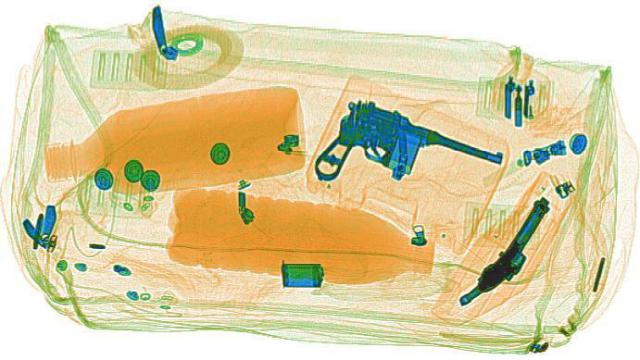Gun: (267, 93, 515, 215), (452, 195, 568, 310)
